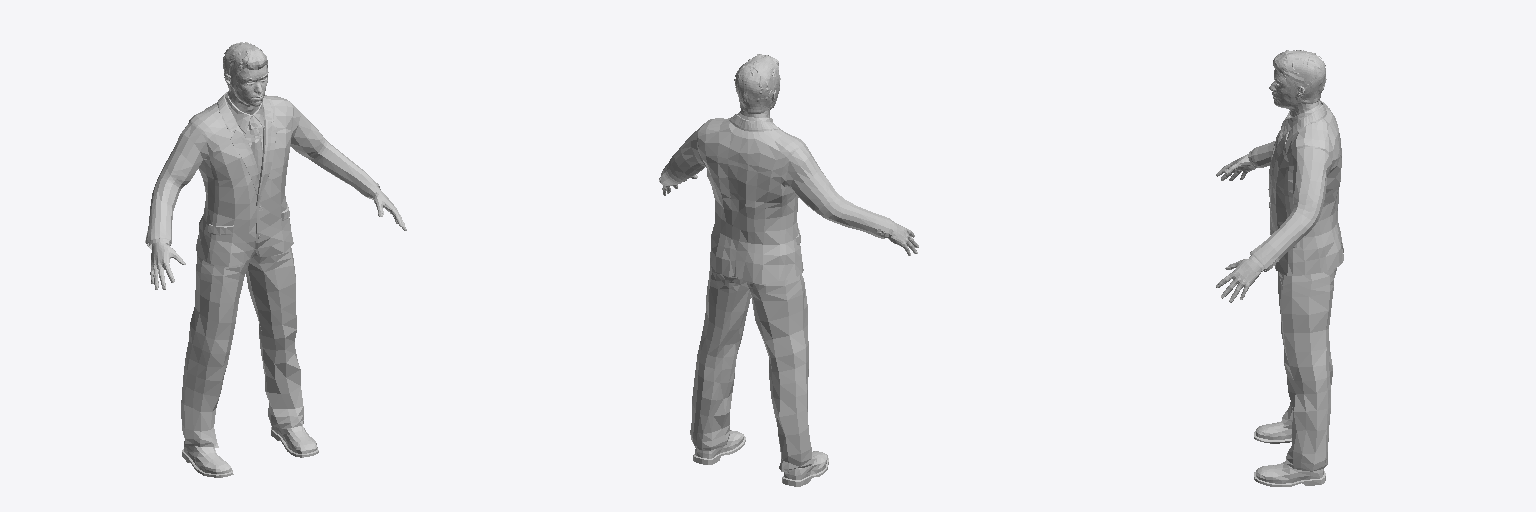
The model's file is humanAll2.obj.
3 views of the same model, side by side, from view 1: azimuth 30°, elevation 25°; view 2: azimuth 150°, elevation 25°; view 3: azimuth 270°, elevation 25° (orthographic).
Parts seen in each view (by area): view 1: human:Body; view 2: human:Body; view 3: human:Body.
Part boxes in pixels (x1,y1,x2,y2): human:Body: (145, 42, 406, 477); human:Body: (659, 54, 918, 486); human:Body: (1216, 50, 1343, 486).
Bounding box in the file's own units: 12.18 × 18.93 × 5.43.